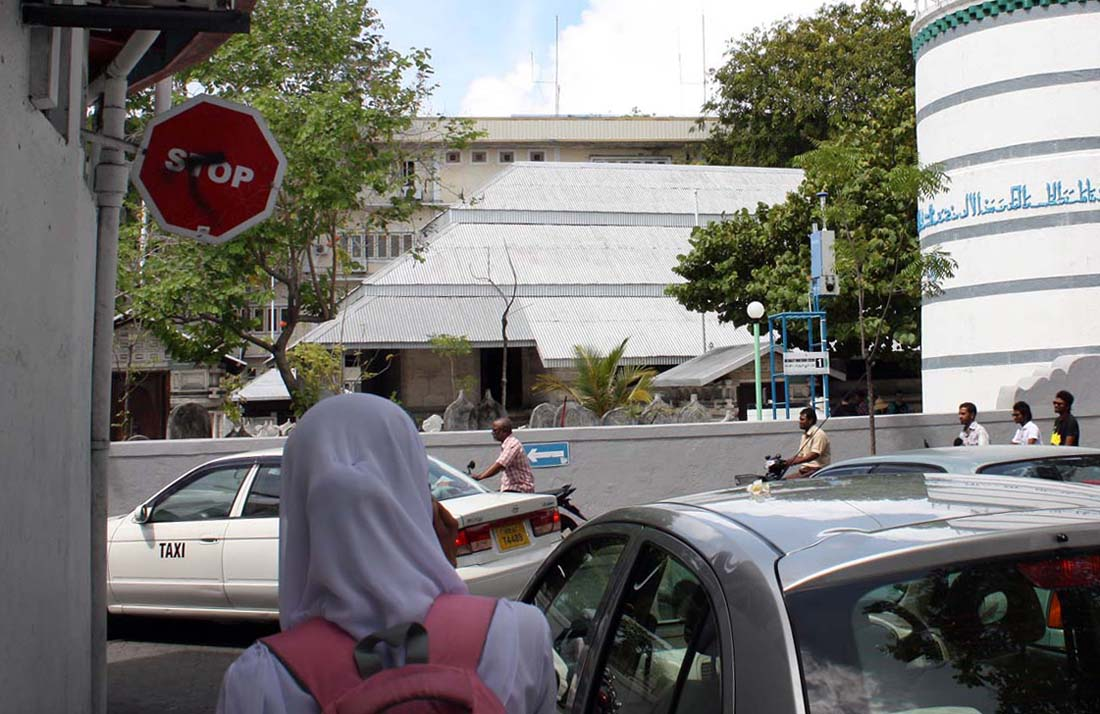stop: (134, 96, 284, 245)
